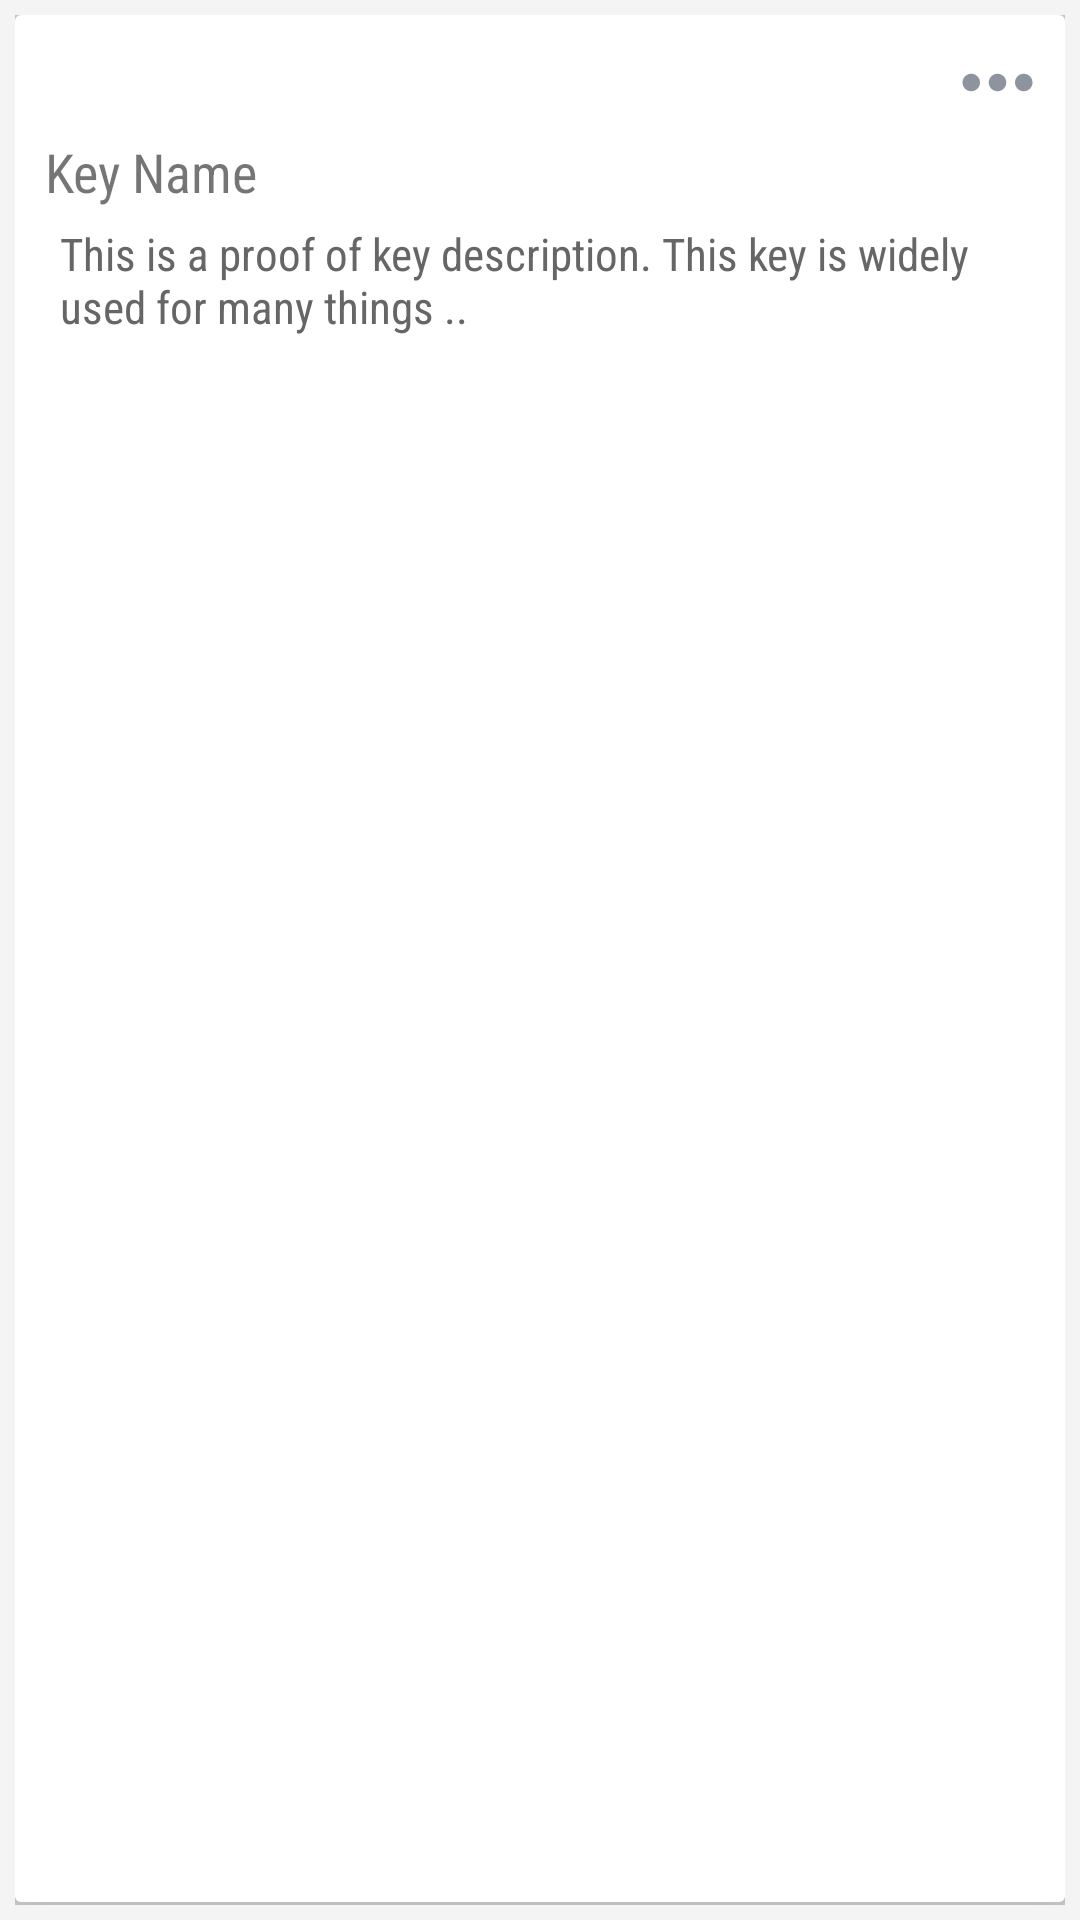

Screen size 1080 x 1920. Icon name, then its center in pixels as (x=x, y=y):
more horiz: (x=997, y=82)
